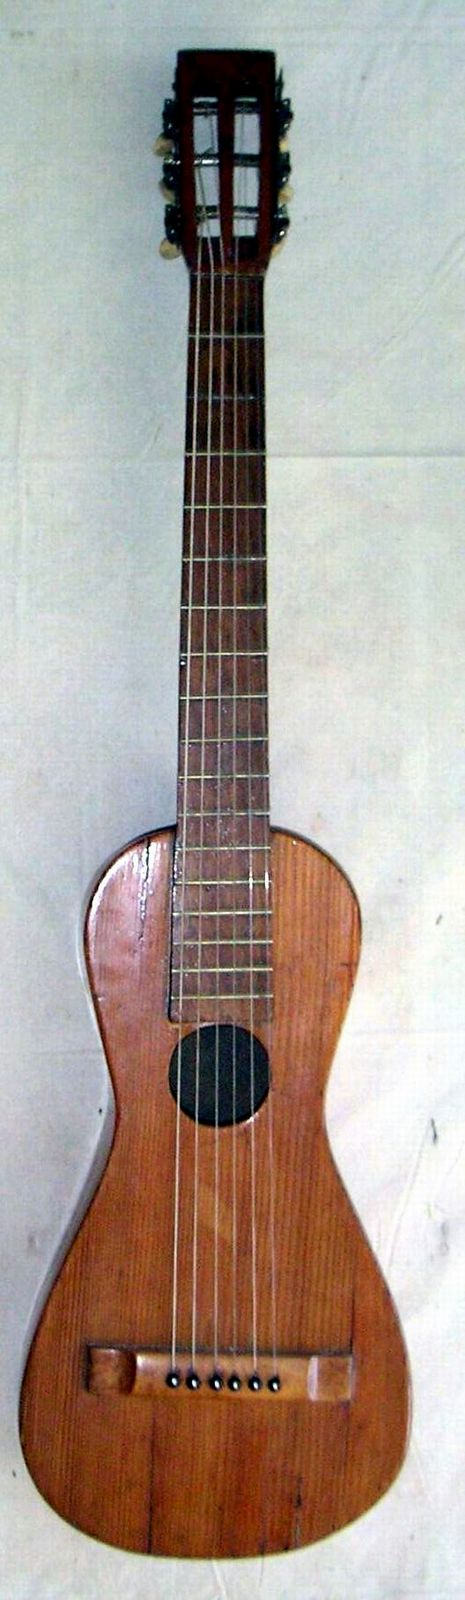guitar: (13, 42, 413, 1562)
